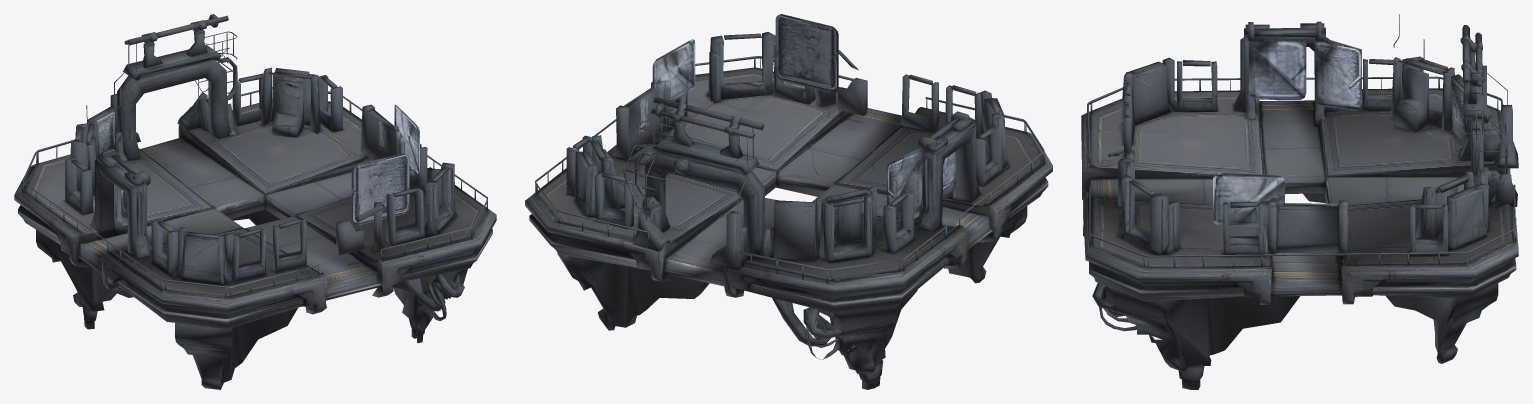
File: cqc-vanguard-sky-v1.glb
The picture shows the model from 3 angles, left to right: view 1: azimuth 30°, elevation 25°; view 2: azimuth 150°, elevation 25°; view 3: azimuth 270°, elevation 25°; orthographic projection. The views are drawn at different scales.
Visible parts, largest first — view 1: cqc-vanguard-sky-v1; view 2: cqc-vanguard-sky-v1; view 3: cqc-vanguard-sky-v1.
Part boxes in pixels (box(x1,y1,x2,y2)): cqc-vanguard-sky-v1: box(14, 14, 496, 389); cqc-vanguard-sky-v1: box(525, 14, 1052, 389); cqc-vanguard-sky-v1: box(1081, 14, 1518, 389).
Size of the model in its own units: 189 by 132 by 190.
1 material, 1 textured.
